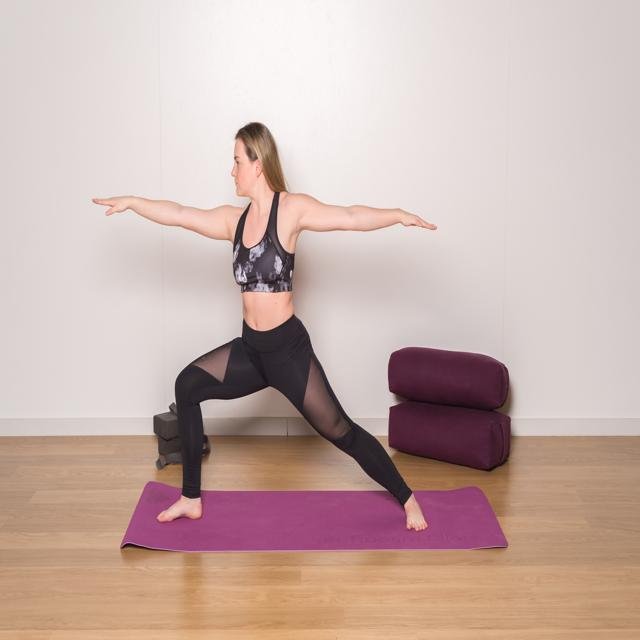Warrior_II: (90, 115, 445, 537)
